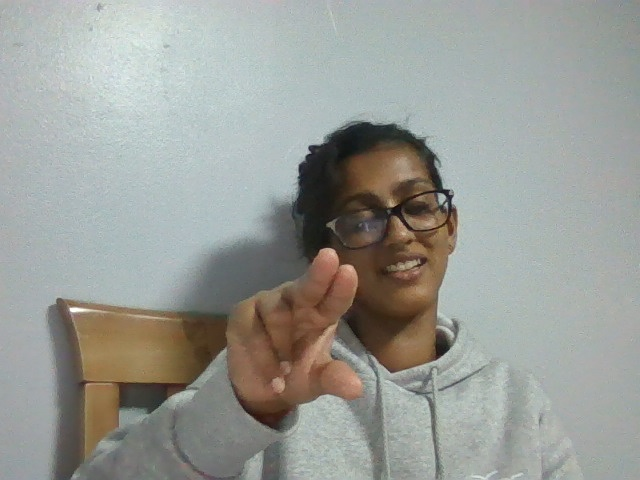No: (222, 243, 369, 412)
